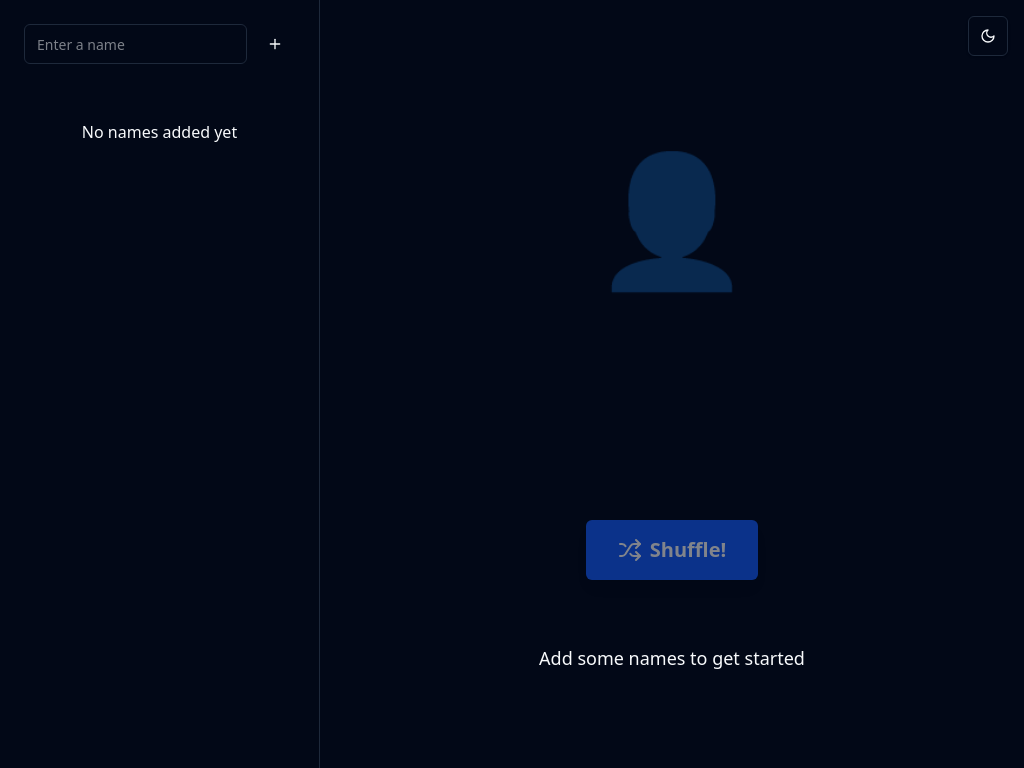
it: App Component › adds a new name when typing and pressing Enter
Type "Alice" into the field with placeholder "Enter a name". click: (136, 44)
box: [24,24,247,64]
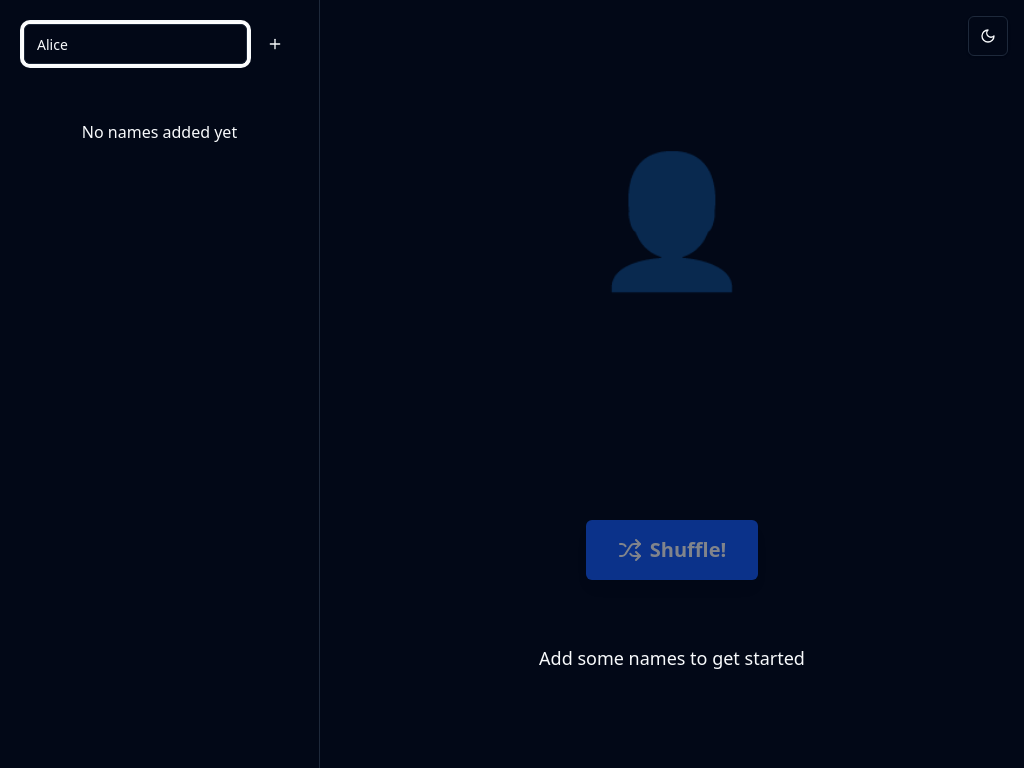
Press Enter
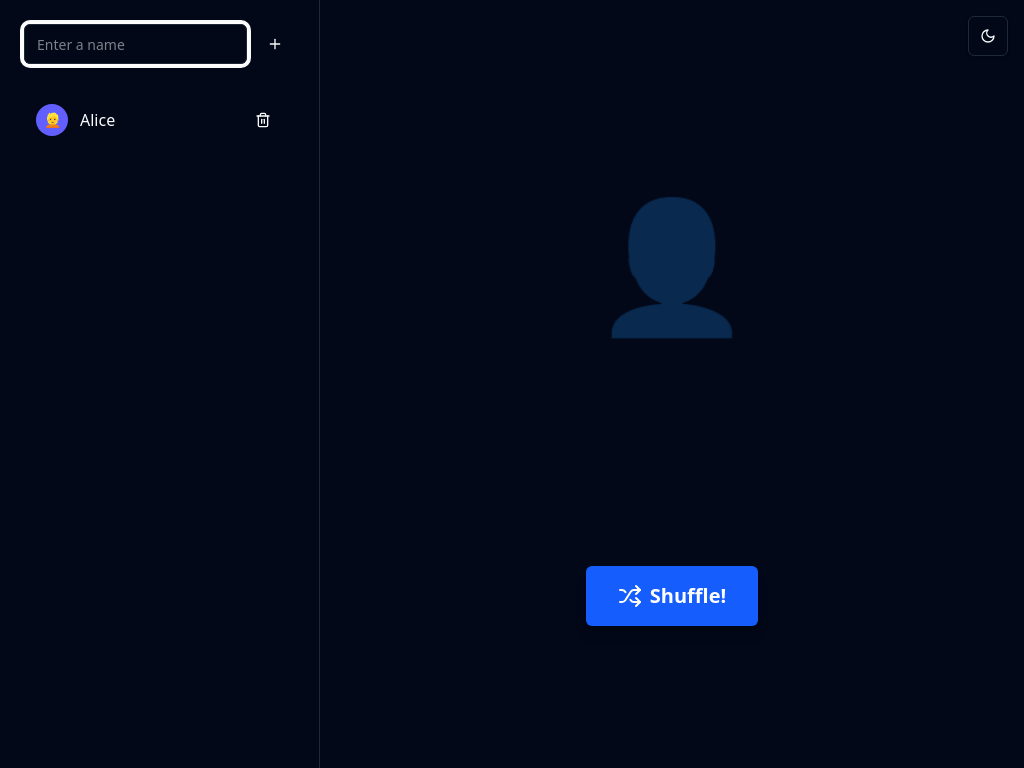
Check: the text "Alice" is shown, box [80,109,115,131]
Check: the field with placeholder "Enter a name" is empty, box [24,24,247,64]
